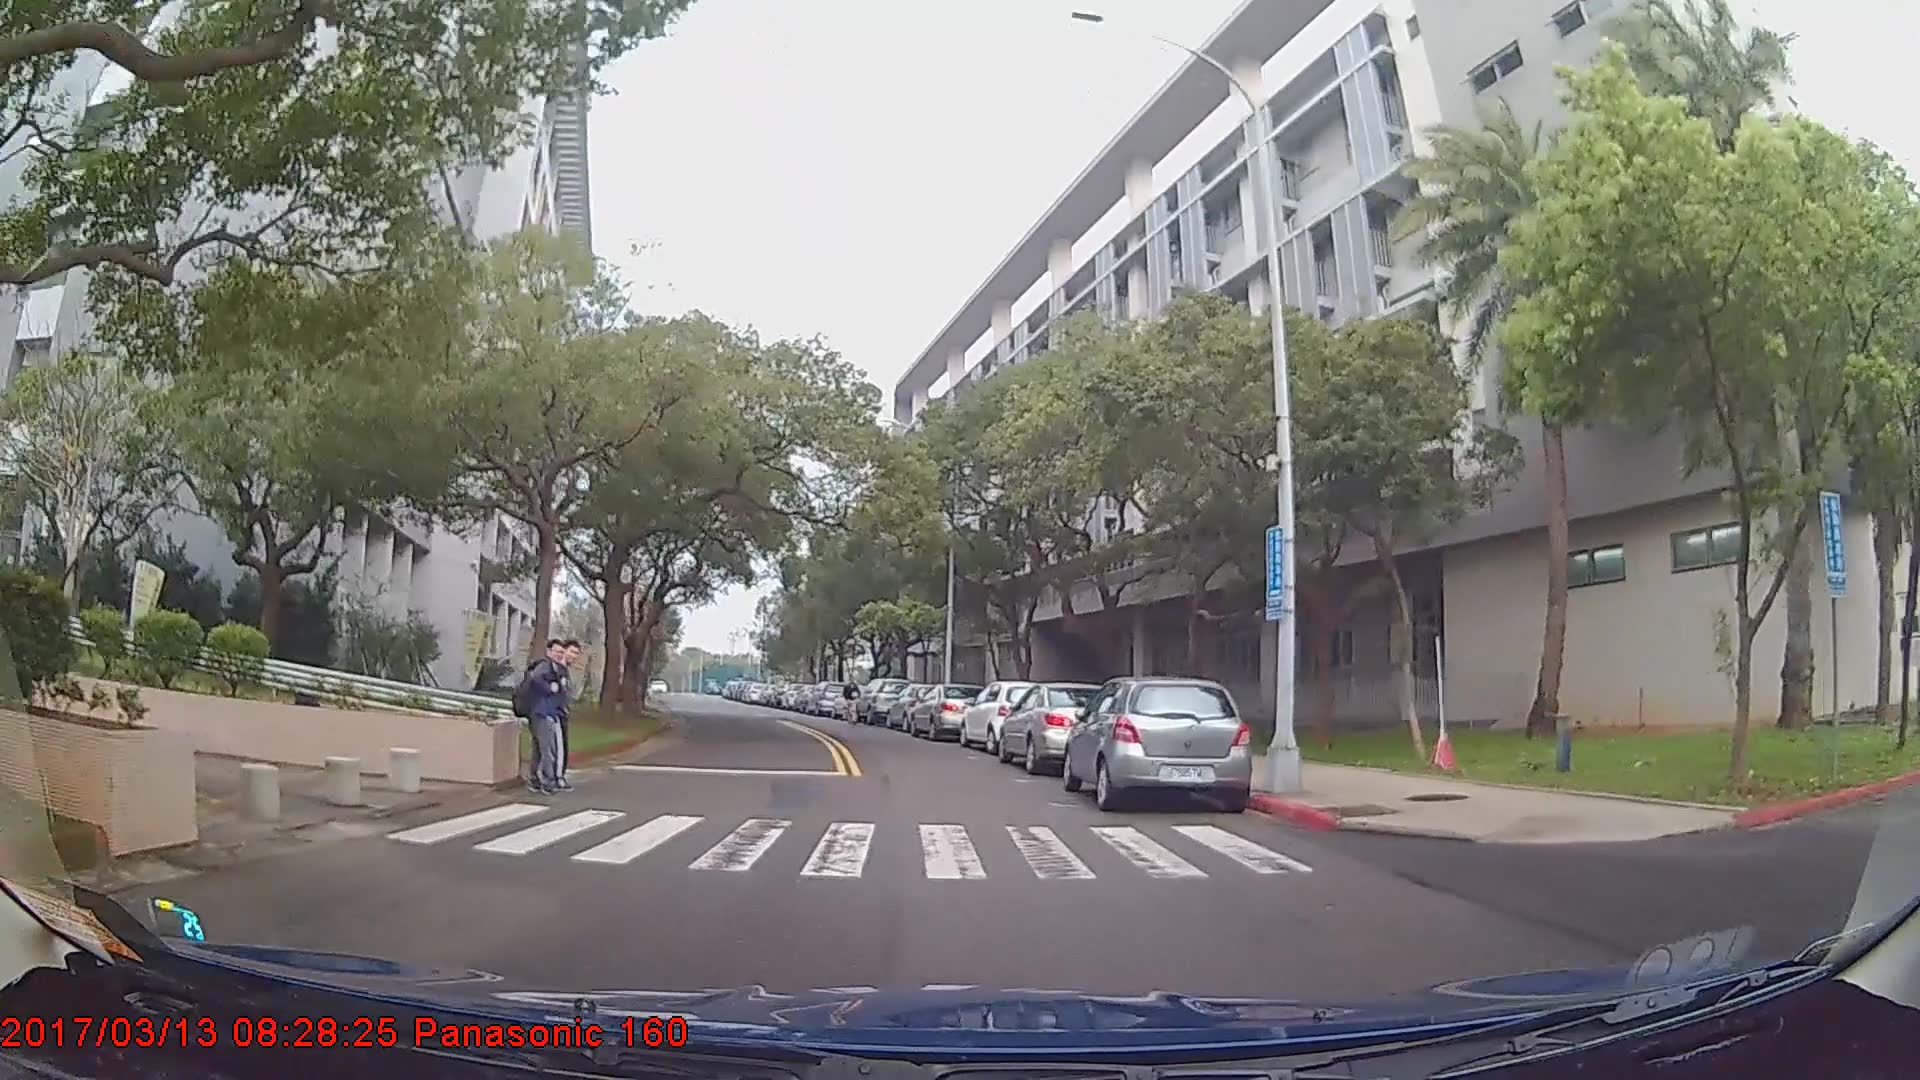pedestrian: (512, 631, 576, 803), (844, 677, 864, 728)
vehicle: (1063, 675, 1254, 814), (995, 681, 1118, 775), (960, 680, 1057, 755), (907, 680, 992, 741), (855, 675, 914, 722), (808, 679, 847, 717)
